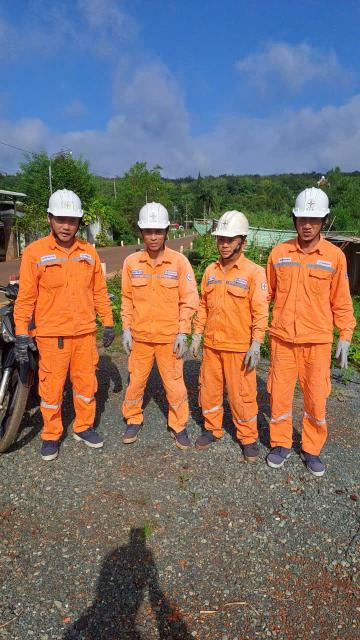gloves: (8, 333, 39, 364), (97, 319, 126, 349), (333, 337, 356, 371), (242, 339, 265, 370), (168, 334, 189, 356), (187, 336, 202, 361)
helmet: (277, 181, 336, 221), (43, 179, 84, 221), (133, 201, 181, 234), (203, 212, 255, 240)
shoes: (25, 430, 61, 460), (74, 417, 105, 451), (299, 445, 329, 479), (267, 441, 292, 469), (120, 414, 143, 443), (241, 431, 261, 464), (162, 426, 191, 448), (195, 428, 220, 450)
